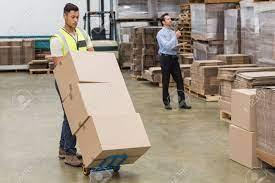Boxes: (75, 113, 150, 168), (62, 82, 136, 135), (54, 51, 124, 102)
